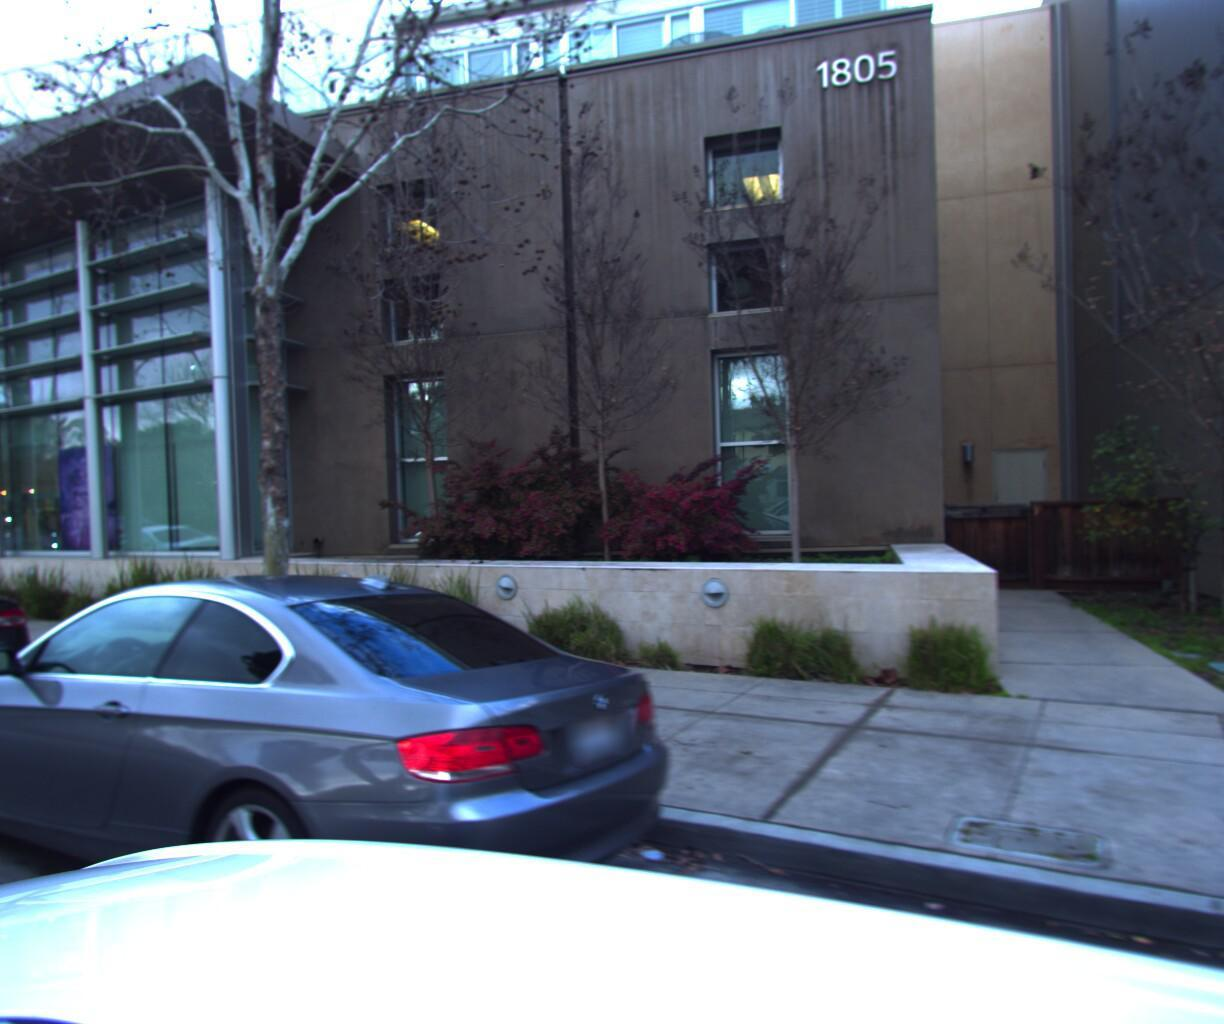car: (0, 557, 700, 1024), (0, 539, 64, 797), (58, 521, 246, 579), (13, 518, 100, 550)
